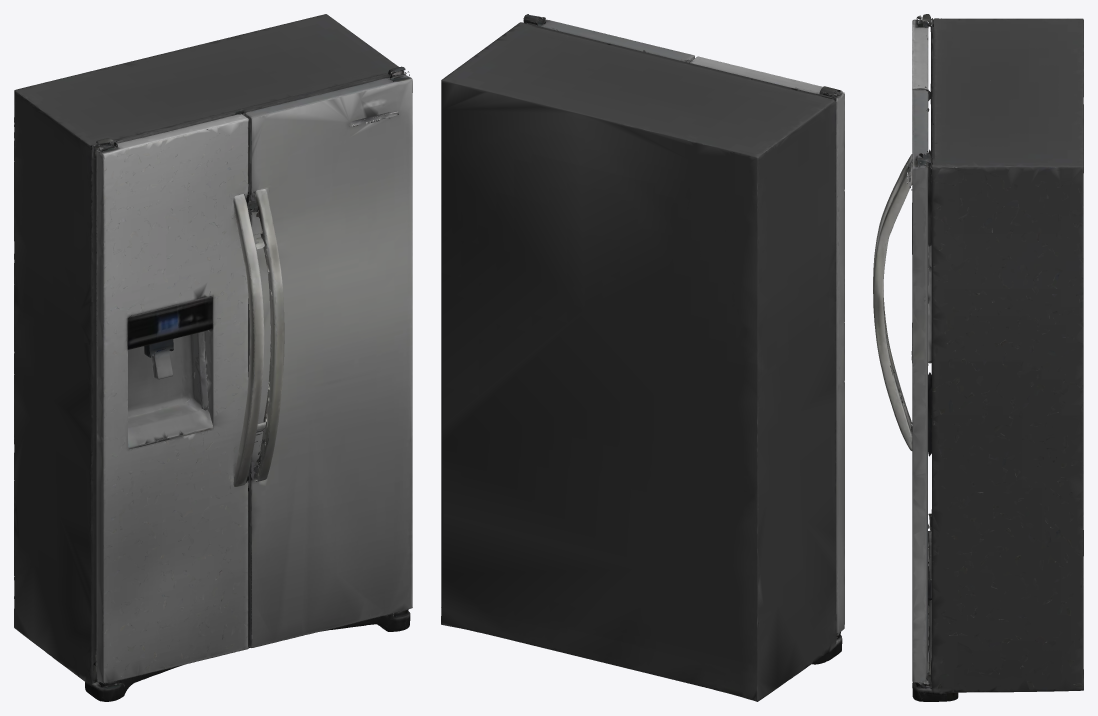
File: refrigerator.glb
The picture shows the model from 3 angles, left to right: view 1: azimuth 30°, elevation 25°; view 2: azimuth 150°, elevation 25°; view 3: azimuth 270°, elevation 25°; orthographic projection. The views are drawn at different scales.
Visible parts, largest first — view 1: geometry_0; view 2: geometry_0; view 3: geometry_0.
Part boxes in pixels (x1,y1,x2,y2): geometry_0: [14, 14, 412, 701]; geometry_0: [441, 14, 844, 701]; geometry_0: [873, 14, 1083, 701].
Bounding box in the file's own units: 1.06 × 1.8 × 0.6344.
1 material, 1 textured.
